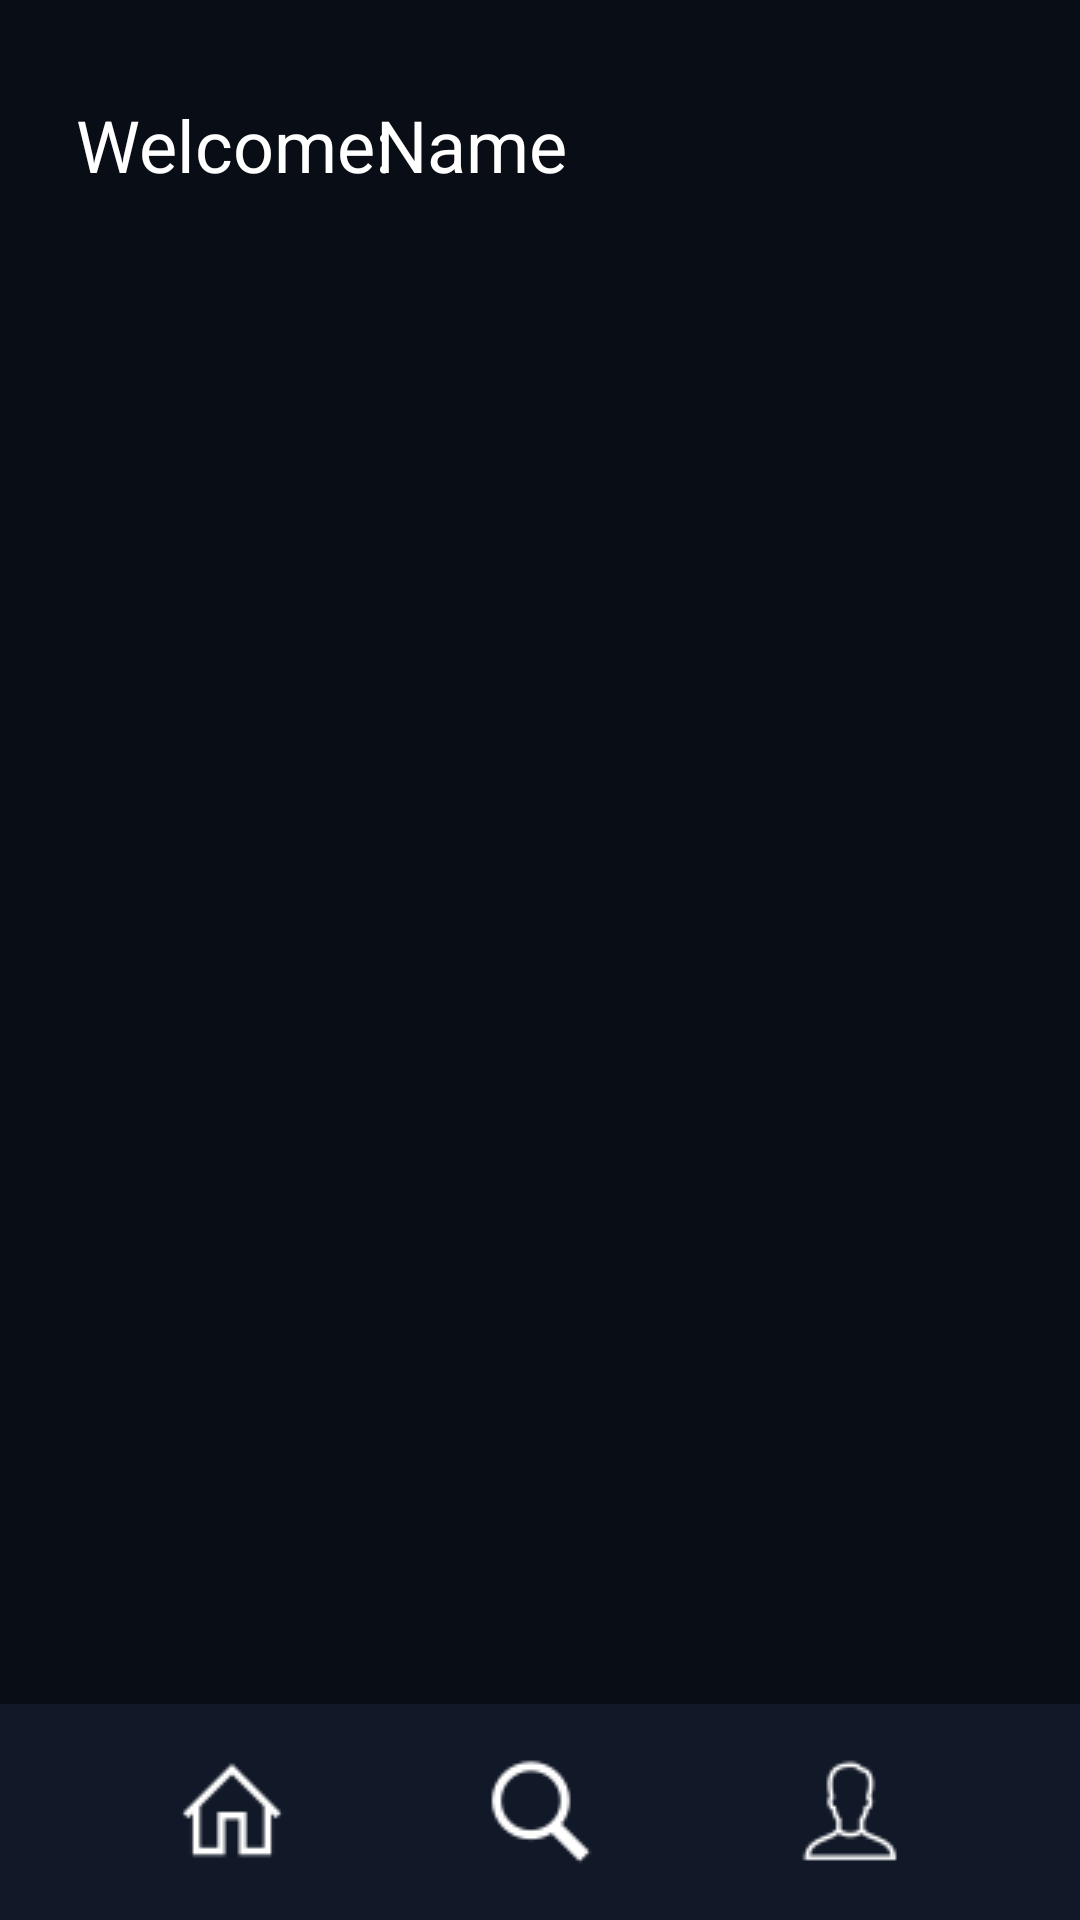

Point at icon controls on the screen. Image size 1080x1920, points as (x=x, y=y).
Account: (x=849, y=1810)
Home: (x=232, y=1810)
Search: (x=541, y=1811)
